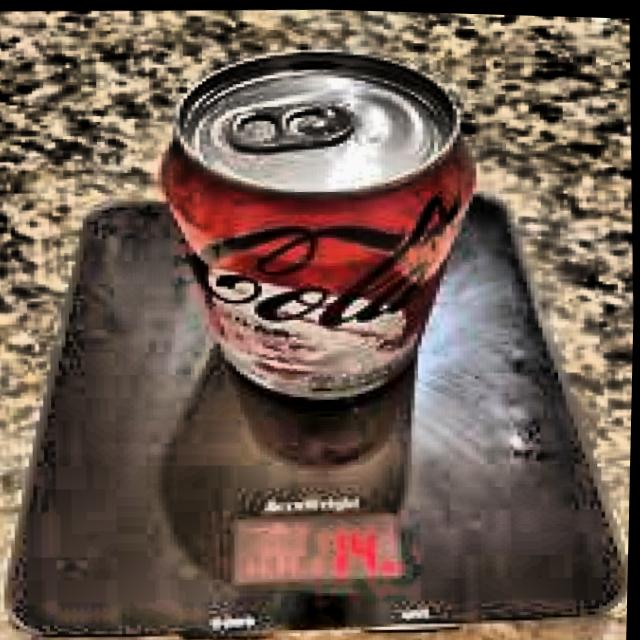Cans: (134, 19, 502, 420)
